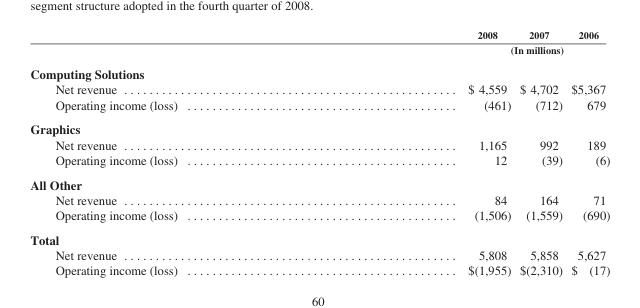table: (29, 28, 609, 276)
table column: (29, 28, 322, 276), (322, 28, 514, 276), (514, 28, 566, 276), (566, 28, 609, 276)
table column header: (29, 28, 609, 61)
table projected row header: (29, 226, 609, 247), (29, 61, 609, 81), (29, 116, 609, 136), (29, 171, 609, 191)
table row: (29, 226, 609, 247), (29, 61, 609, 81), (29, 96, 609, 116), (29, 116, 609, 136), (29, 151, 609, 171), (29, 171, 609, 191), (29, 42, 609, 61), (29, 207, 609, 226), (29, 191, 609, 207), (29, 81, 609, 96), (29, 136, 609, 151), (29, 247, 609, 262), (29, 28, 609, 42), (29, 262, 609, 276)
table spanning cell: (322, 42, 609, 61)
